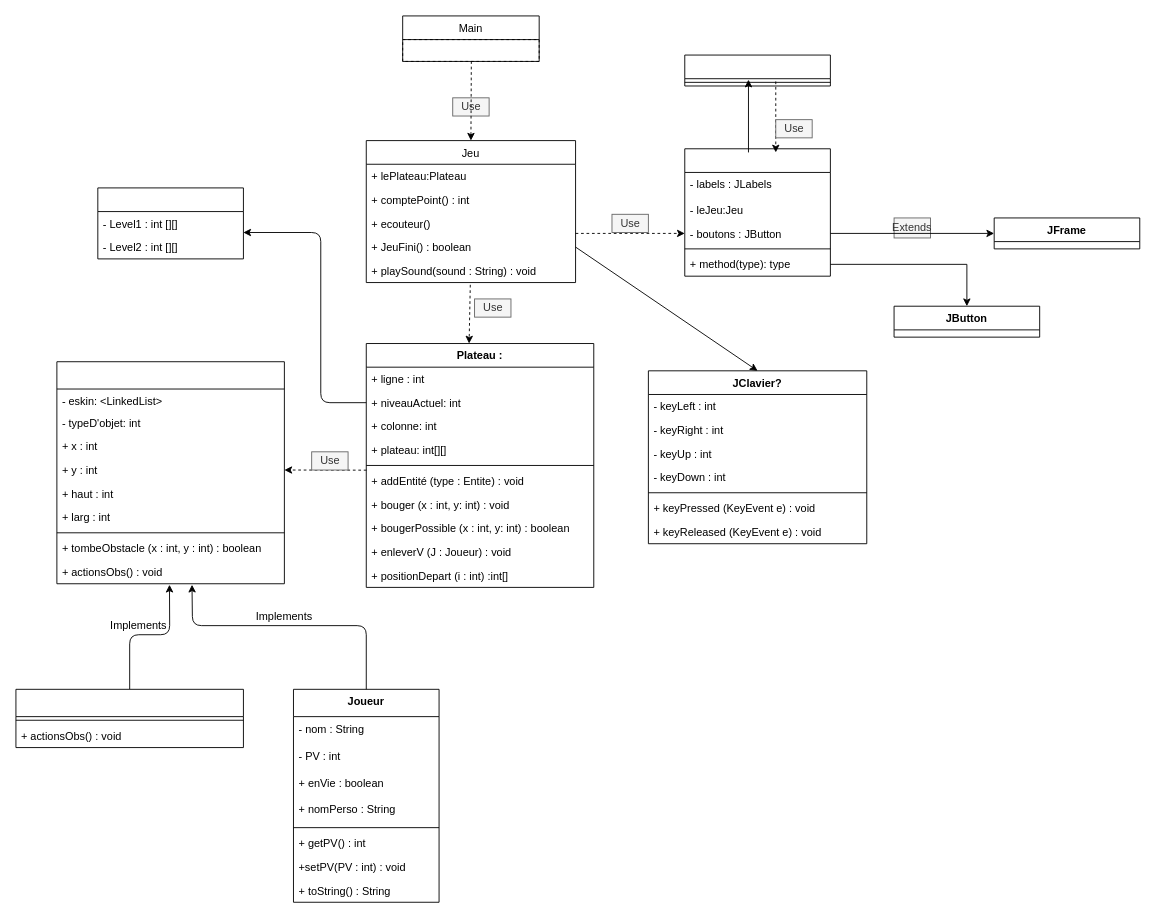
Image size: 1156x921. Some labels were removed from this diagram. Here are the shapes that lost their labels. From the top down, the box of each, then its label:
(402, 39, 539, 61): + main(String[]args) : void
(684, 54, 830, 86): ecouteurs
(97, 187, 243, 259): Niveaux
(684, 148, 830, 276): Fenetre
(56, 361, 284, 584): Entité
(15, 688, 243, 748): Obstacles
